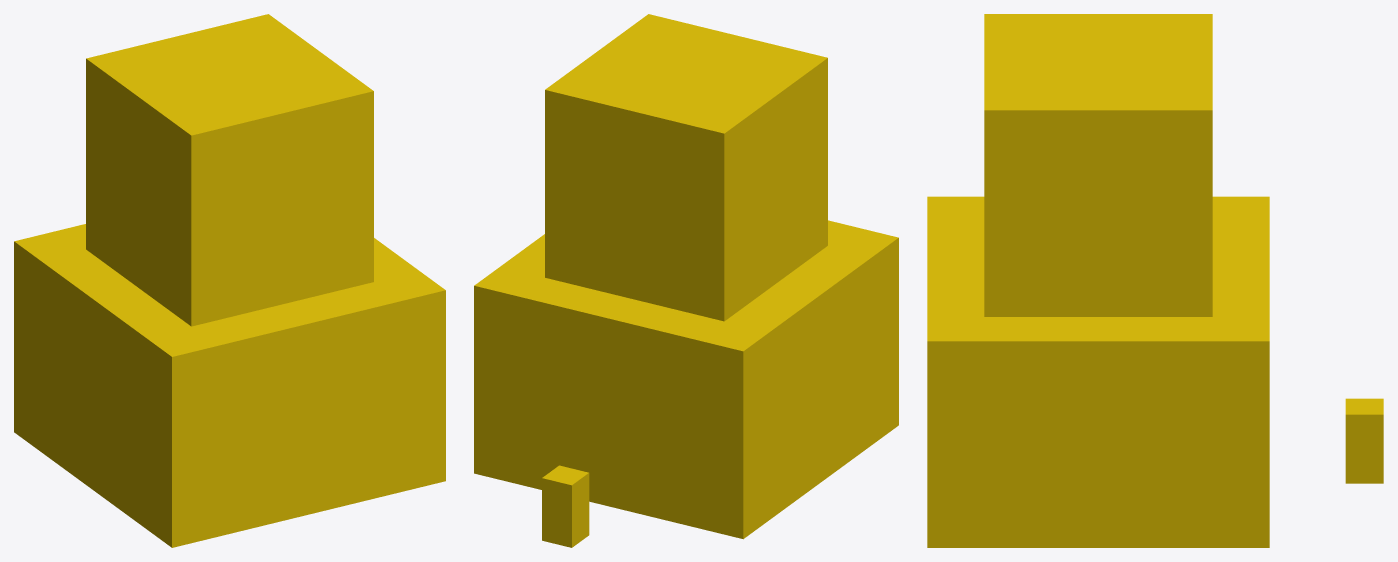
Rendered from player.fbx.
3 renders of one model, left to right at view 1: azimuth 30°, elevation 25°; view 2: azimuth 150°, elevation 25°; view 3: azimuth 270°, elevation 25°, orthographic. The views are drawn at different scales.
Visible parts, largest first — view 1: Lower_Body, Head; view 2: Lower_Body, Head, Player; view 3: Lower_Body, Head, Player.
Part boxes in pixels (x1=…): Lower_Body: x1=14, y1=224, x2=445, y2=547; Head: x1=86, y1=14, x2=373, y2=326; Lower_Body: x1=474, y1=220, x2=898, y2=539; Head: x1=545, y1=14, x2=827, y2=321; Player: x1=542, y1=465, x2=589, y2=547; Lower_Body: x1=927, y1=196, x2=1269, y2=547; Head: x1=984, y1=14, x2=1212, y2=316; Player: x1=1345, y1=398, x2=1383, y2=483.
Bounding box in the file's own units: 900 × 1200 × 1200.
